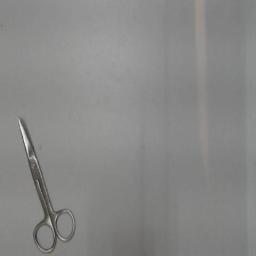Dressing Scissors: (11, 104, 81, 254)
